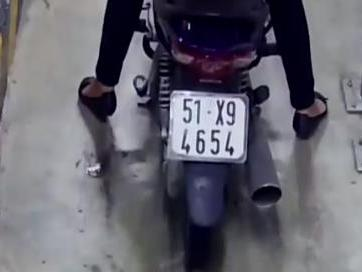num_plate: (167, 90, 248, 163)
